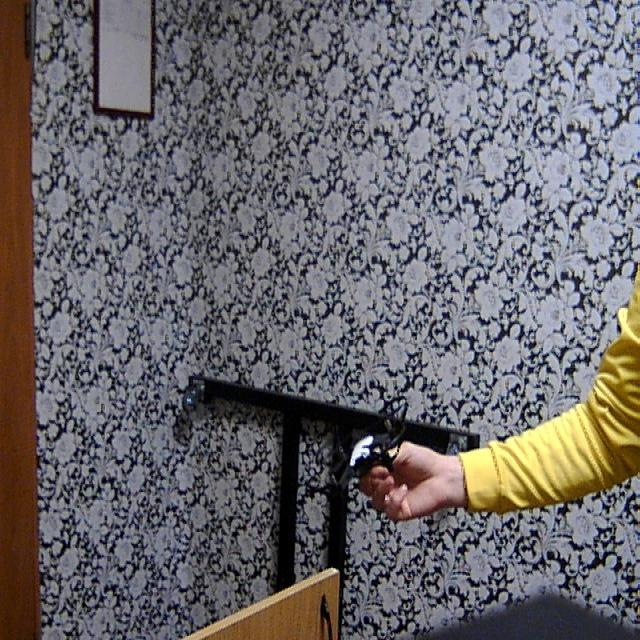drone: (308, 400, 416, 498)
